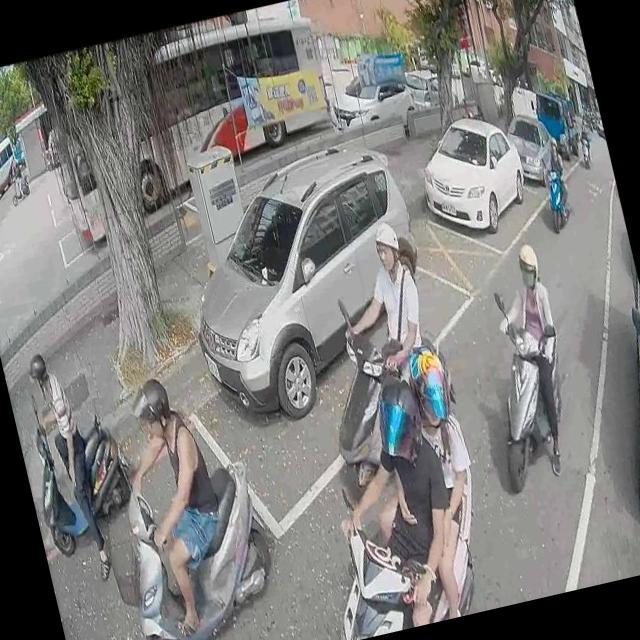person: (334, 330, 502, 626), (309, 376, 472, 638), (103, 364, 246, 640), (458, 236, 590, 496), (318, 214, 438, 397), (19, 342, 112, 577), (534, 130, 574, 223), (136, 622, 198, 640), (8, 157, 27, 200), (576, 122, 589, 143)
